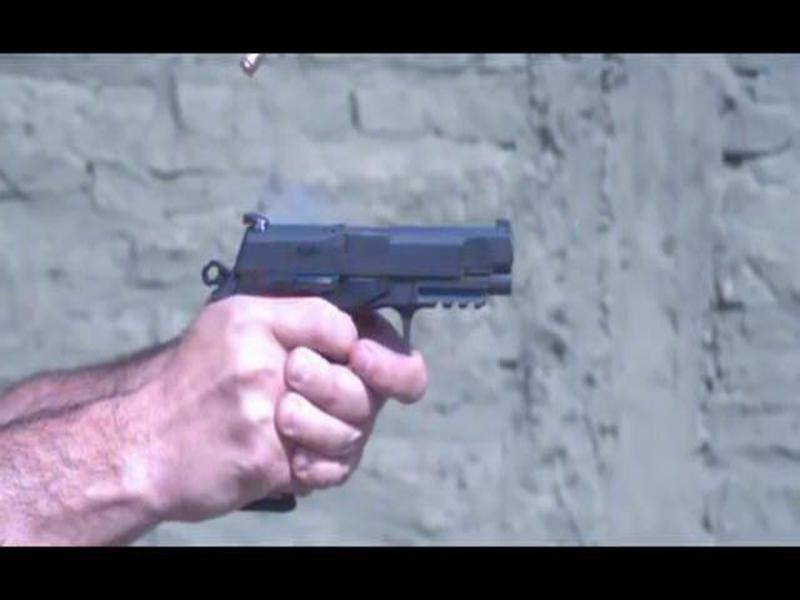Pistola: (185, 174, 530, 370)
